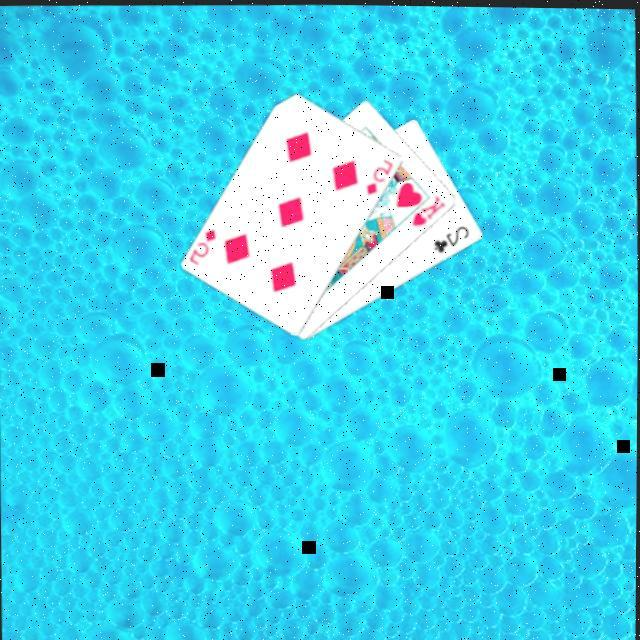2C: (431, 222, 474, 258)
5D: (186, 226, 222, 269), (363, 156, 398, 198)
KH: (409, 192, 450, 230)
